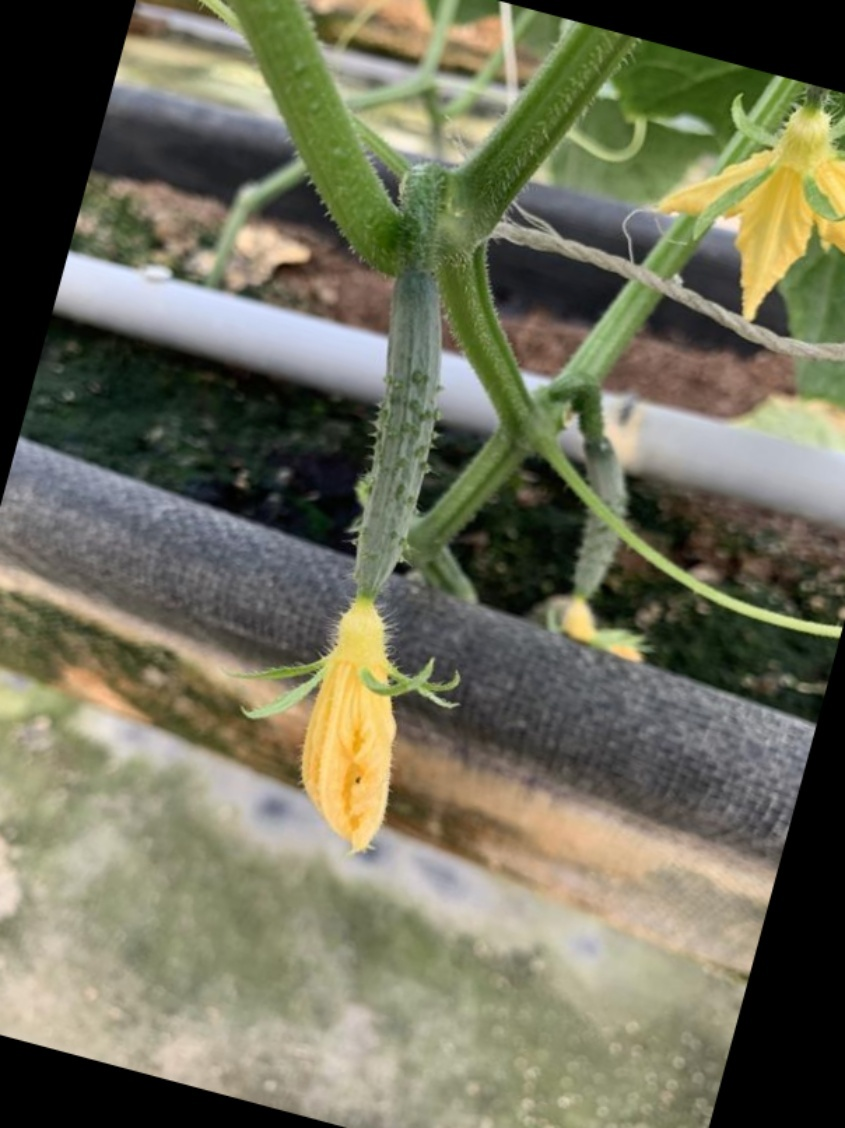bear: (244, 262, 472, 859)
